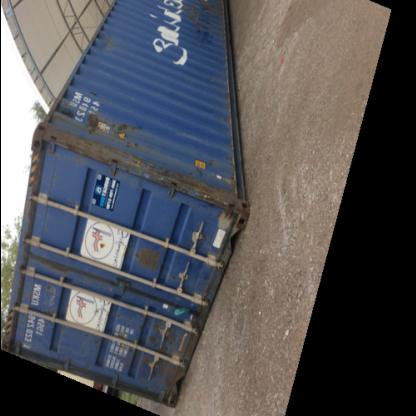Damage: (136, 171, 224, 202), (135, 322, 174, 376), (177, 3, 214, 44), (84, 108, 134, 138), (130, 240, 165, 273), (92, 30, 115, 62)
